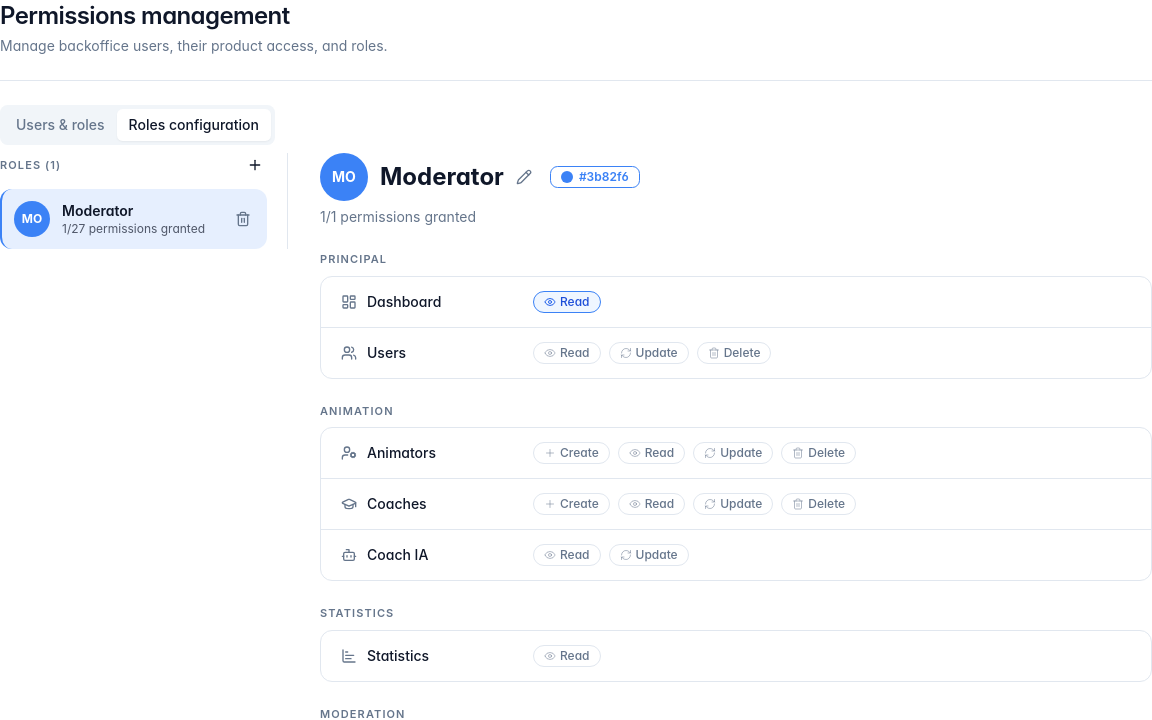
Test: PermissionsPage — Create role button › clicking the Create role button opens the role creation dialog
Click the button named "create role".
click(255, 165)  # box [243,153,267,177]
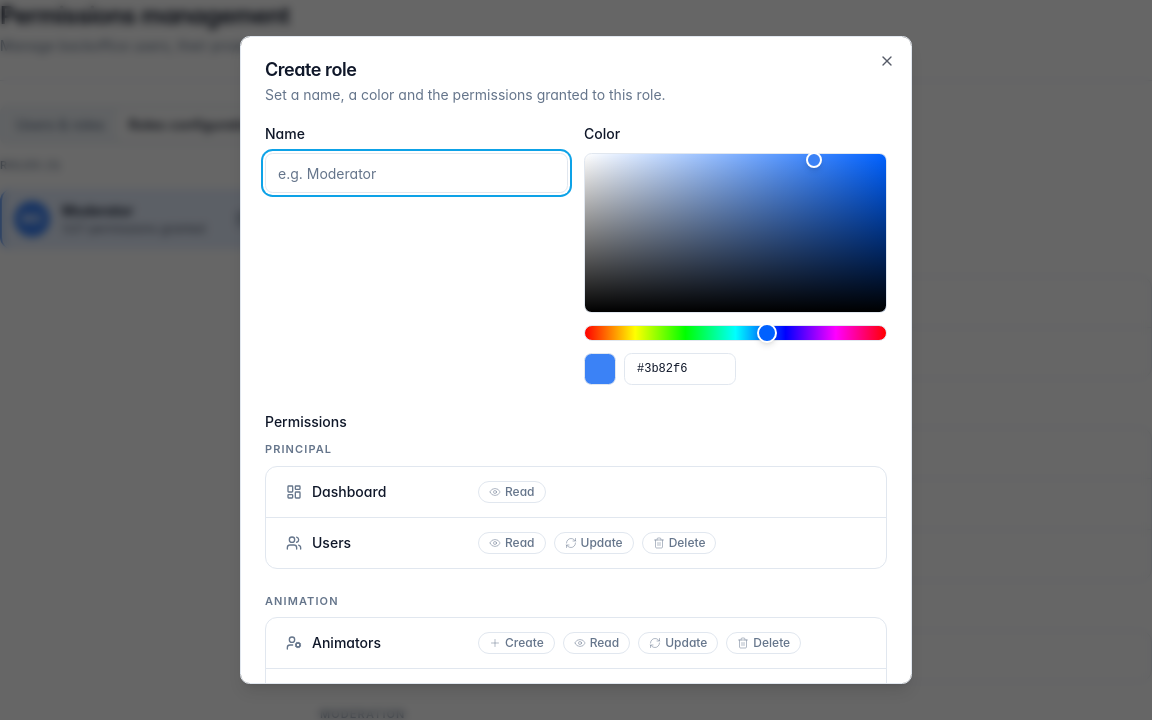
expect the dialog is shown: met, box [240,36,912,684]
